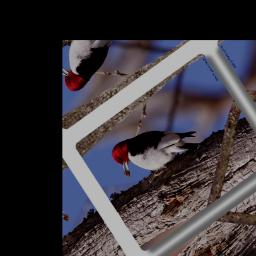Woodpecker: (107, 101, 204, 195)
